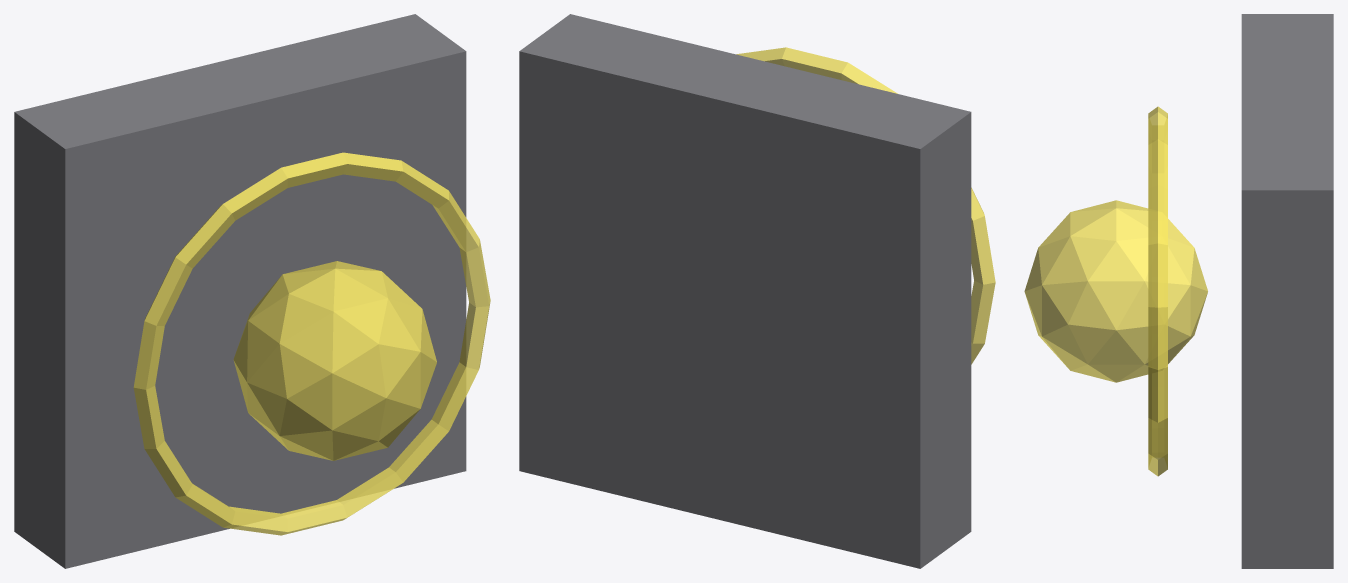
Rendered from gear_crank_puzzle.glb.
3 views of the same model, side by side, from view 1: azimuth 30°, elevation 25°; view 2: azimuth 150°, elevation 25°; view 3: azimuth 270°, elevation 25° (orthographic). The views are drawn at different scales.
Parts seen in each view (by area): view 1: puzzle_base, puzzle_core, rune_ring; view 2: puzzle_base, rune_ring; view 3: puzzle_base, puzzle_core, rune_ring.
Boxes of the visible parts, bbox=[...] form: puzzle_base: bbox=[14, 14, 466, 568]; puzzle_core: bbox=[233, 261, 436, 460]; rune_ring: bbox=[133, 152, 490, 535]; puzzle_base: bbox=[519, 14, 971, 568]; rune_ring: bbox=[736, 47, 995, 364]; puzzle_base: bbox=[1241, 14, 1333, 568]; puzzle_core: bbox=[1024, 200, 1207, 382]; rune_ring: bbox=[1148, 106, 1167, 476].
Size of the model in its own units: 1 by 1 by 0.74.
